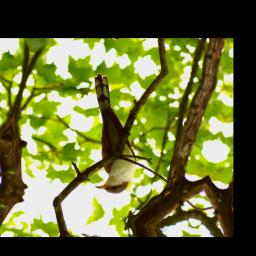Cuckoo: (64, 72, 160, 198)
